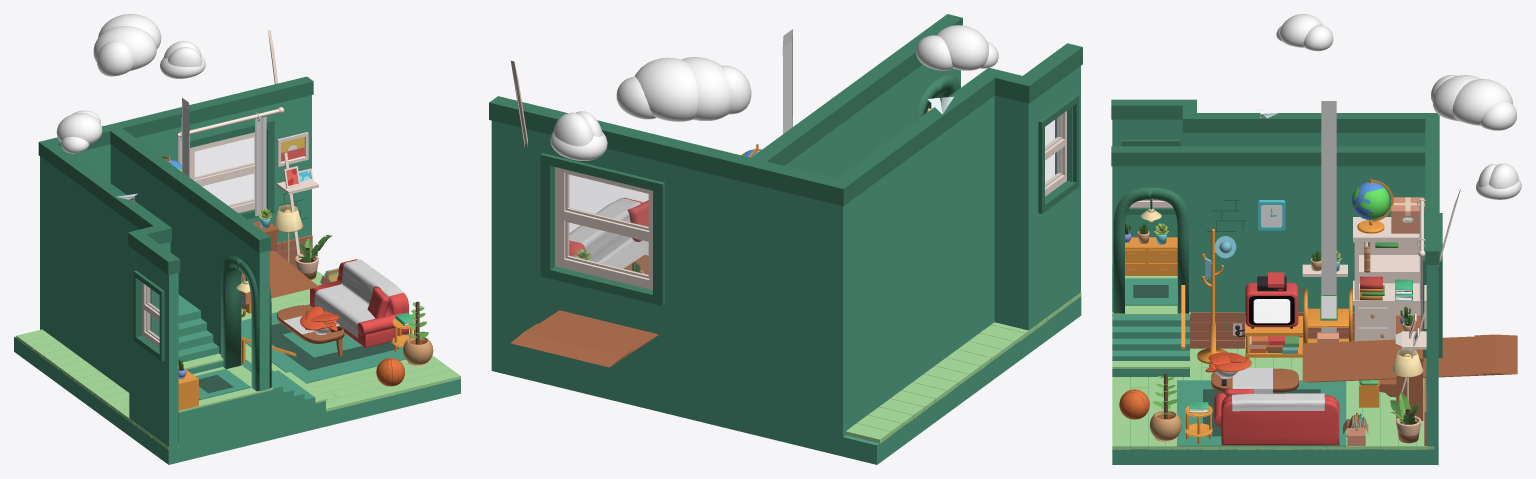
Rendered from livingroom.glb.
3 renders of one model, left to right at view 1: azimuth 30°, elevation 25°; view 2: azimuth 150°, elevation 25°; view 3: azimuth 270°, elevation 25°, orthographic. The views are drawn at different scales.
Visible parts, largest first — view 1: 平面.002, 平面.003, 平面, 平面.001, 平面.010, 平面.005, 立方体.007, 立方体.011, 平面.075, 平面.073, 平面.004, 平面.011 (+31 smaller); view 2: 平面.001, 平面.002, 平面.010, 平面.007, 平面.075, 平面.005, 平面.003, 平面, 平面.014, 平面.073, 立方体.026, 平面.074 (+18 smaller); view 3: 平面.003, 平面, 立方体.026, 平面.073, 平面.010, 平面.074, 立方体.004, 立方体.007, 立方体, 平面.004, 立方体.011, 立方体.086 (+43 smaller).
Part boxes in pixels (left/top/right/bottom): 平面.002: left=45, top=160, right=139, bottom=392; 平面.003: left=110, top=144, right=269, bottom=390; 平面: left=16, top=271, right=460, bottom=450; 平面.001: left=40, top=95, right=311, bottom=331; 平面.010: left=14, top=336, right=460, bottom=464; 平面.005: left=132, top=249, right=178, bottom=449; 立方体.007: left=178, top=359, right=325, bottom=451; 立方体.011: left=242, top=304, right=405, bottom=383; 平面.075: left=38, top=76, right=313, bottom=159; 平面.073: left=104, top=123, right=270, bottom=252; 平面.004: left=221, top=256, right=271, bottom=391; 平面.011: left=314, top=259, right=403, bottom=338; 平面.001: left=491, top=120, right=850, bottom=444; 平面.002: left=850, top=96, right=994, bottom=427; 平面.010: left=491, top=296, right=1081, bottom=464; 平面.007: left=994, top=95, right=1032, bottom=330; 平面.075: left=489, top=96, right=852, bottom=206; 平面.005: left=1032, top=66, right=1080, bottom=327; 平面.003: left=784, top=64, right=960, bottom=178; 平面: left=845, top=292, right=1081, bottom=443; 平面.014: left=540, top=153, right=664, bottom=305; 平面.073: left=742, top=14, right=962, bottom=167; 立方体.026: left=511, top=255, right=658, bottom=367; 平面.074: left=828, top=68, right=1003, bottom=198; 平面.003: left=1112, top=166, right=1425, bottom=350; 平面: left=1112, top=348, right=1434, bottom=449; 立方体.026: left=1302, top=334, right=1517, bottom=382; 平面.073: left=1111, top=146, right=1425, bottom=166; 平面.010: left=1112, top=351, right=1438, bottom=464; 平面.074: left=1183, top=113, right=1439, bottom=132; 立方体.004: left=1221, top=395, right=1339, bottom=445; 立方体.007: left=1112, top=315, right=1189, bottom=379; 立方体: left=1354, top=242, right=1422, bottom=341; 平面.004: left=1113, top=187, right=1188, bottom=313; 立方体.011: left=1177, top=380, right=1346, bottom=446; 立方体.086: left=1321, top=101, right=1336, bottom=332.
Bounding box in the file's own units: 10.5 × 10.09 × 10.89.
